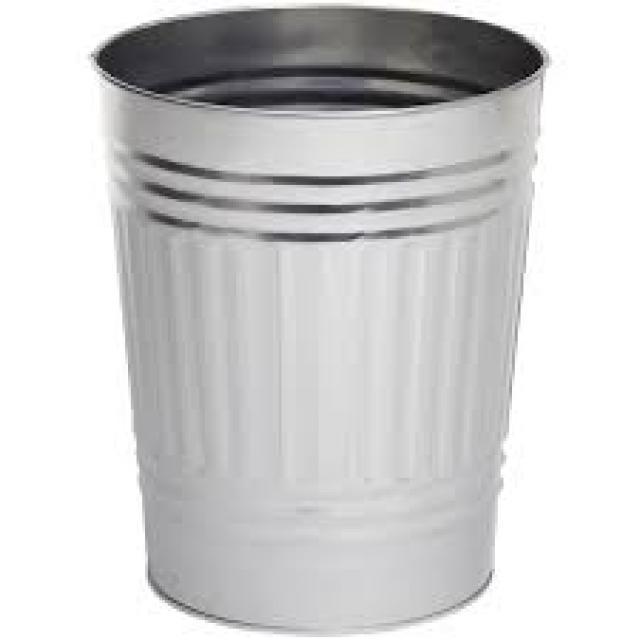metal: (88, 3, 543, 629)
